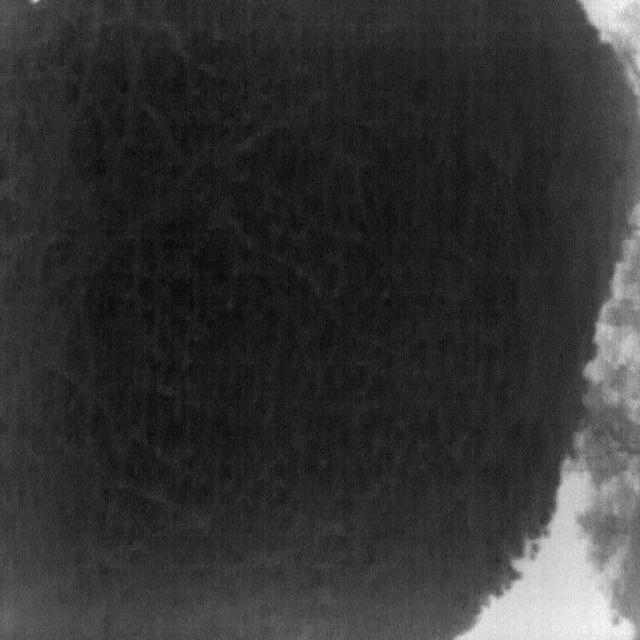deer: (29, 0, 41, 6)
